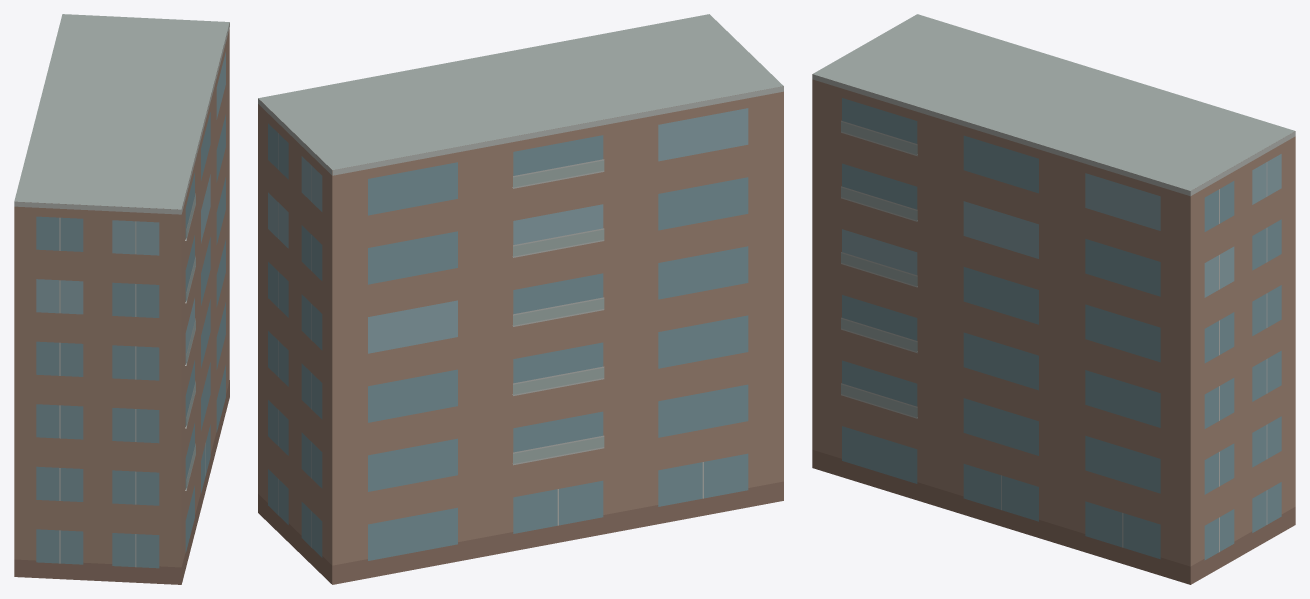
File: survey-upis-32829288.glb
3 views of the same model, side by side, from view 1: azimuth 30°, elevation 25°; view 2: azimuth 150°, elevation 25°; view 3: azimuth 270°, elevation 25° (orthographic). The views are drawn at different scales.
Visible parts, largest first — view 1: survey-upis-32829288.tmp; view 2: survey-upis-32829288.tmp; view 3: survey-upis-32829288.tmp.
Part boxes in pixels (x1,y1,x2,y2): survey-upis-32829288.tmp: [14, 14, 229, 584]; survey-upis-32829288.tmp: [258, 14, 783, 584]; survey-upis-32829288.tmp: [812, 14, 1295, 584].
Bounding box in the file's own units: 17.65 × 18.3 × 20.36.
